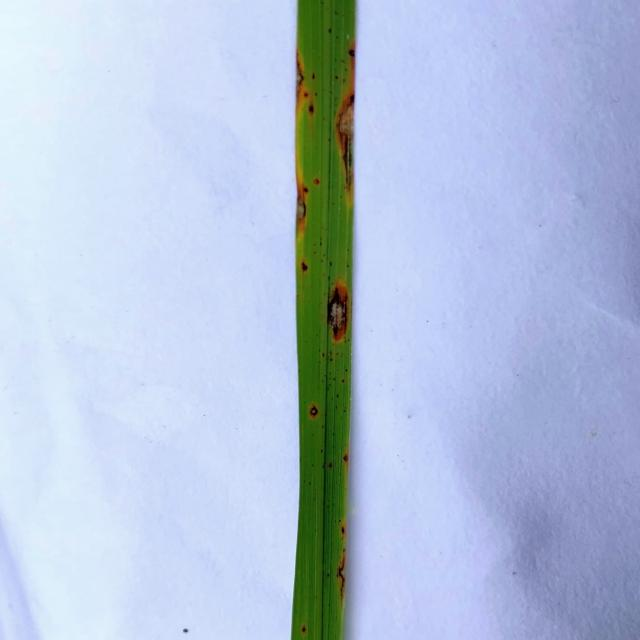leaf blast: (328, 90, 357, 191), (323, 280, 352, 347), (330, 542, 351, 608), (295, 48, 310, 118), (296, 171, 310, 232)
